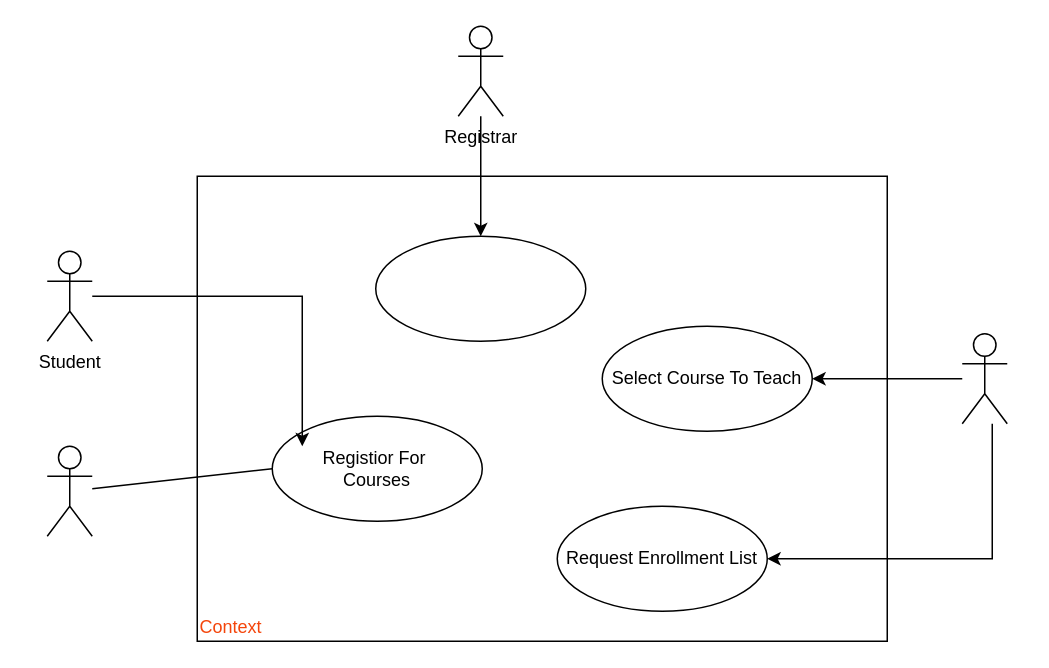
Some shapes in this 1049 by 668 pixel diagram are drawn without their labels. The centre of each missing label's shape, as x and y in pixels:
"Bill System" goes at pixel 69 490.
"Instructor" goes at pixel 984 378.
"Maintain Course Information" goes at pixel 480 288.
